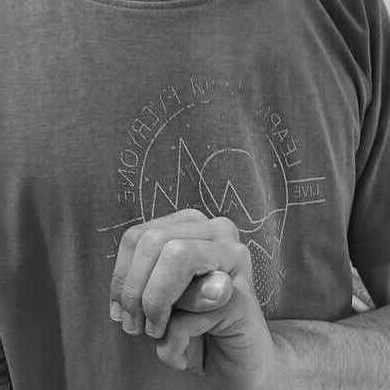M: (107, 208, 274, 390)
